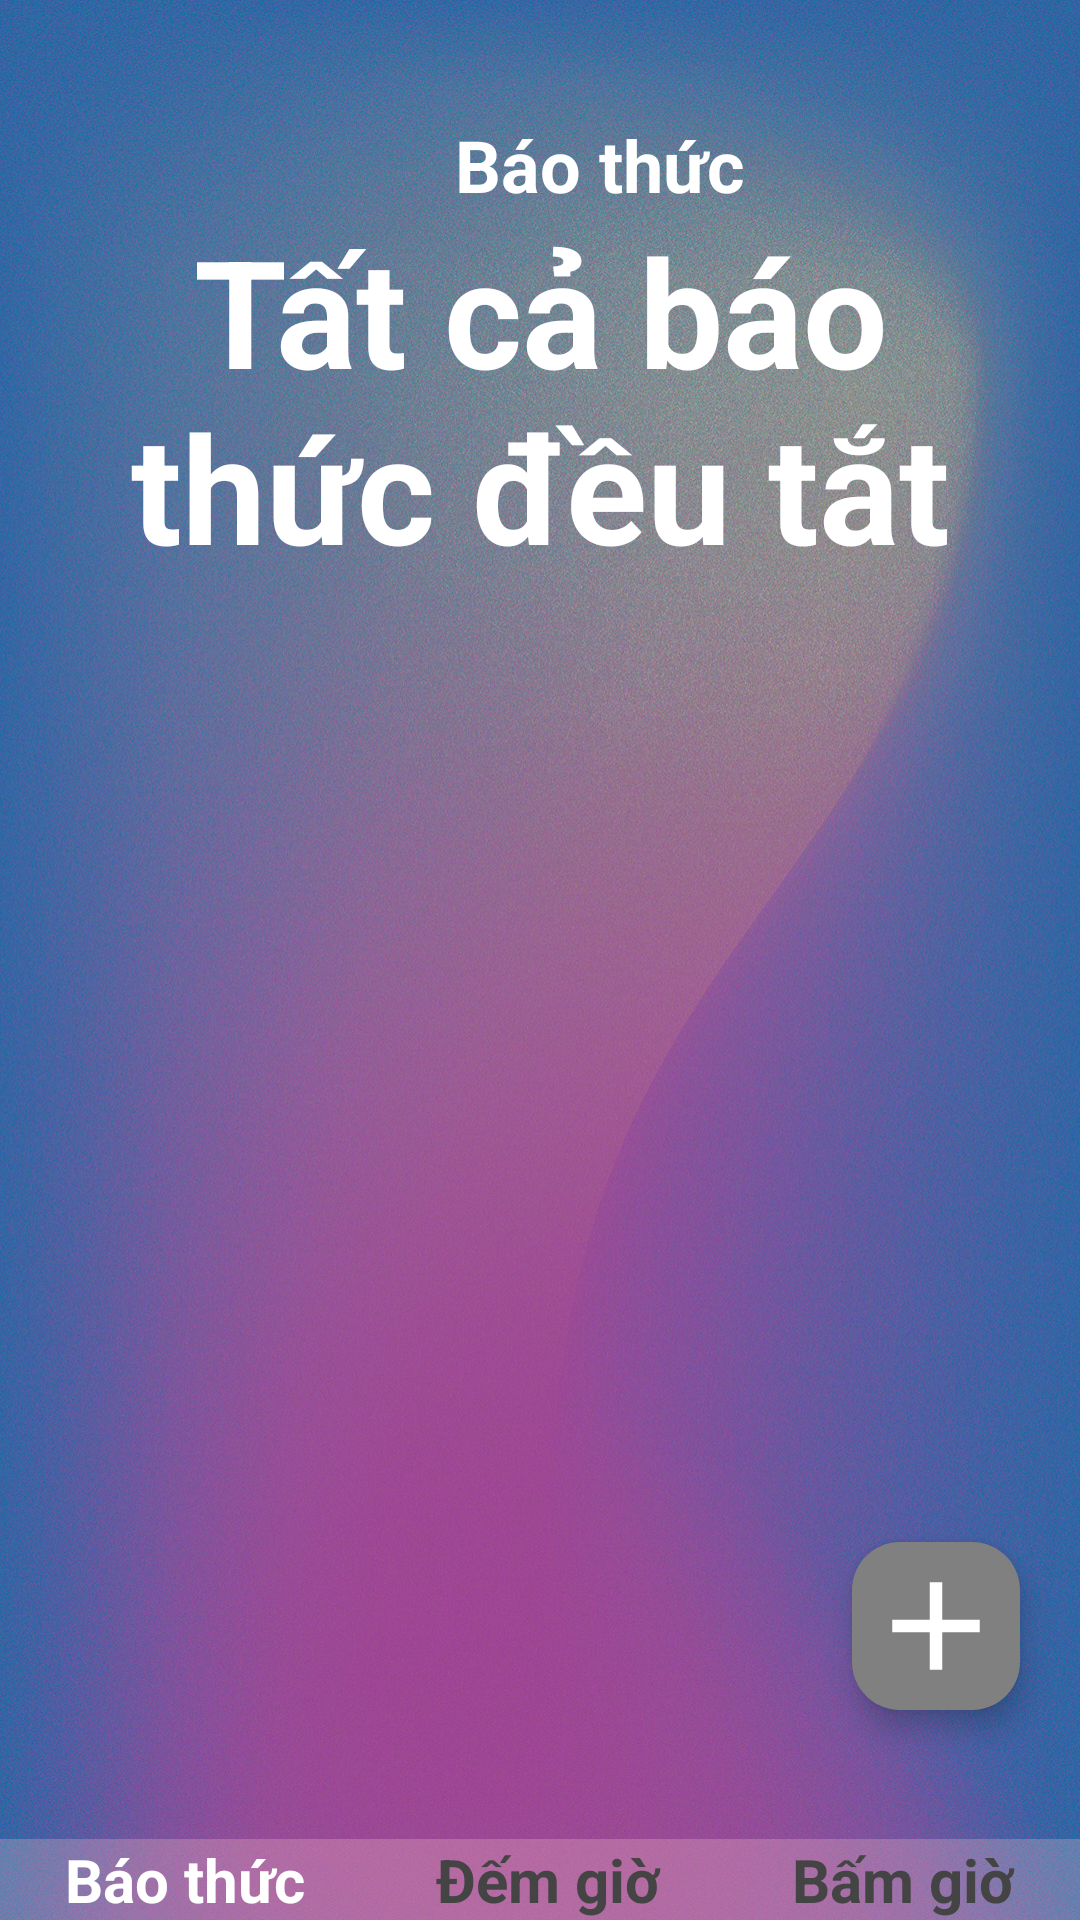

Icons on this 1080px x 1920px Android screen, each with the point to tap as (x=x, y=y):
Thêm mới: (x=936, y=1626)
